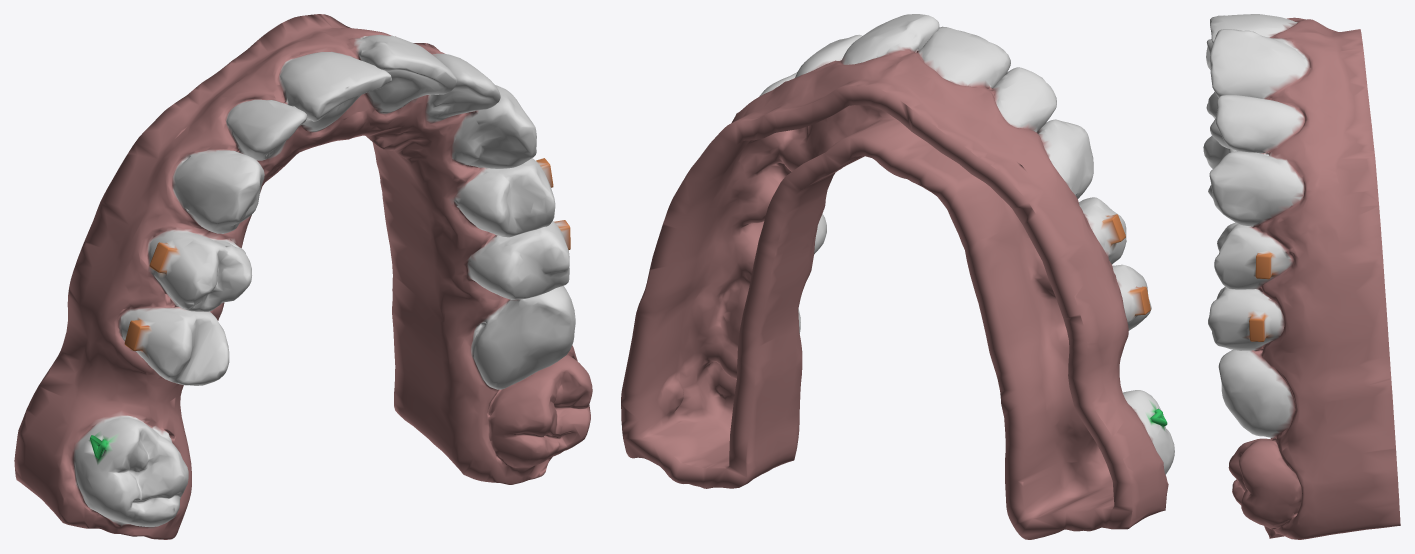
File: upper-model-4.glb
3 views of the same model, side by side, from view 1: azimuth 30°, elevation 25°; view 2: azimuth 150°, elevation 25°; view 3: azimuth 270°, elevation 25° (orthographic). The views are drawn at different scales.
Parts seen in each view (by area): view 1: 4; view 2: 4; view 3: 4.
Part boxes in pixels (left/top/right/bottom): 4: left=14, top=14, right=592, bottom=539; 4: left=621, top=14, right=1174, bottom=539; 4: left=1203, top=14, right=1400, bottom=539.
Bounding box in the file's own units: 56.95 × 49.89 × 20.55.
